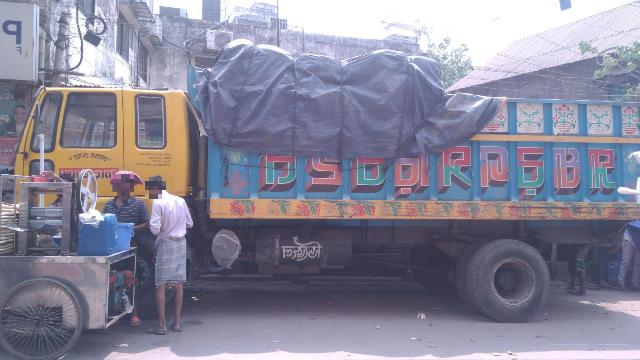truck: (11, 33, 639, 316)
